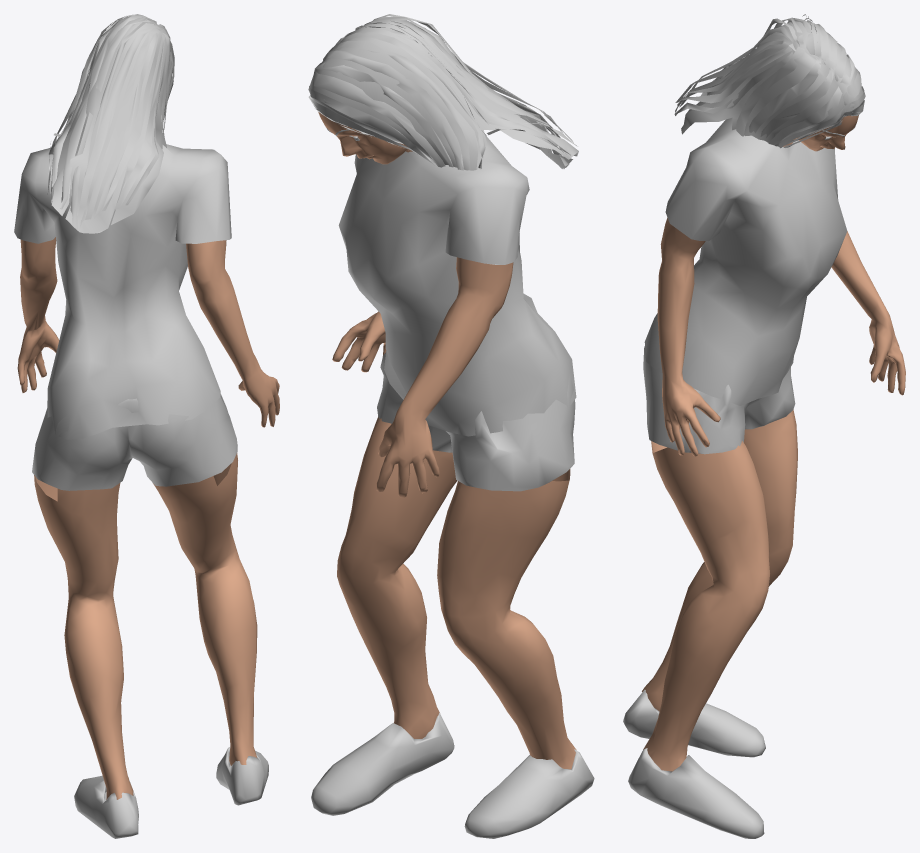
The model's file is player2att_000009.obj.
The picture shows the model from 3 angles, left to right: view 1: azimuth 30°, elevation 25°; view 2: azimuth 150°, elevation 25°; view 3: azimuth 270°, elevation 25°; orthographic projection. The views are drawn at different scales.
Visible parts, largest first — view 1: player2:Body, player2:tshirt02, player2:fhair01, player2:short01, player2:shoes02; view 2: player2:Body, player2:tshirt02, player2:fhair01, player2:shoes02, player2:short01; view 3: player2:Body, player2:tshirt02, player2:fhair01, player2:shoes02, player2:short01.
Boxes of the visible parts, x1,y1,x2,y2 form: player2:Body: (17, 237, 279, 799); player2:tshirt02: (14, 144, 231, 439); player2:fhair01: (47, 14, 174, 233); player2:short01: (32, 394, 237, 490); player2:shoes02: (74, 747, 268, 838); player2:Body: (318, 112, 576, 769); player2:tshirt02: (338, 135, 576, 436); player2:fhair01: (308, 14, 578, 170); player2:shoes02: (311, 713, 594, 838); player2:short01: (377, 352, 575, 491); player2:Body: (642, 115, 905, 771); player2:tshirt02: (644, 117, 847, 405); player2:fhair01: (674, 14, 865, 148); player2:shoes02: (623, 689, 765, 838); player2:short01: (643, 340, 795, 454).
Bounding box in the file's own units: 5.04 × 16.2 × 5.36.
